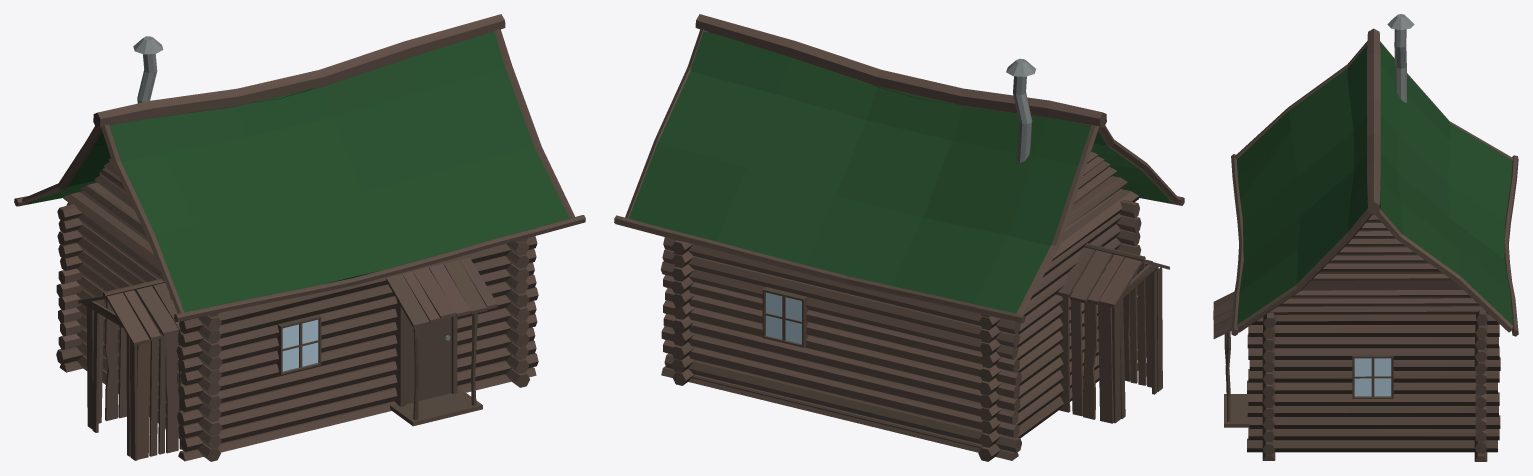
File: cabin_shed_lev2.glb
The picture shows the model from 3 angles, left to right: view 1: azimuth 30°, elevation 25°; view 2: azimuth 150°, elevation 25°; view 3: azimuth 270°, elevation 25°; orthographic projection. The views are drawn at different scales.
Visible parts, largest first — view 1: cabin_shed_lev2; view 2: cabin_shed_lev2; view 3: cabin_shed_lev2.
Part boxes in pixels (x1,y1,x2,y2): cabin_shed_lev2: (14, 14, 585, 461); cabin_shed_lev2: (614, 14, 1184, 461); cabin_shed_lev2: (1213, 14, 1518, 461).
Bounding box in the file's own units: 16.15 × 12.96 × 11.45.
Materials: 1 (1 with a texture image).
